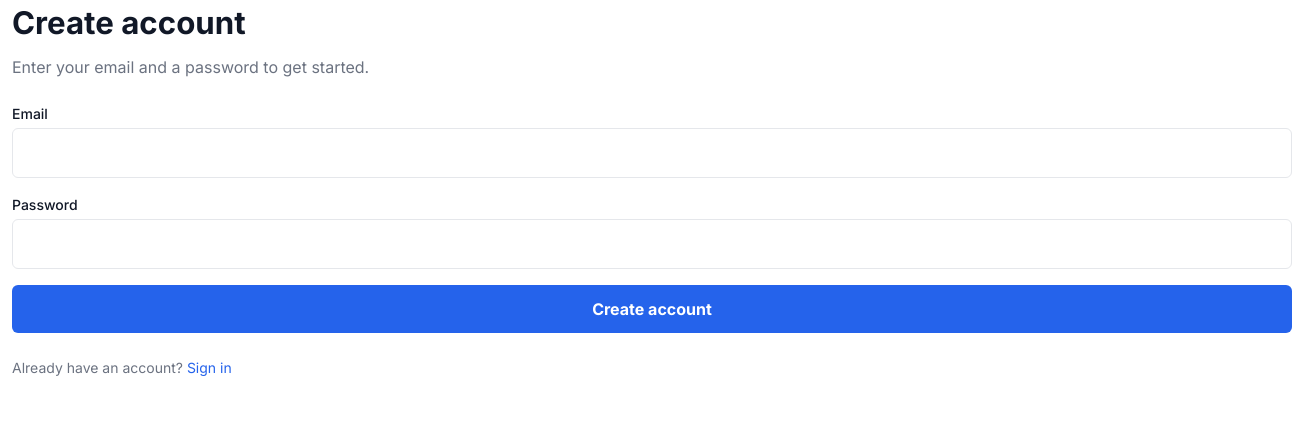
Test: SignUpForm › shows an inline error and stays on the page for a duplicate email
Type "dupe@b.com" into the field labelled "Email" at (652, 153), box [12,128,1292,178]
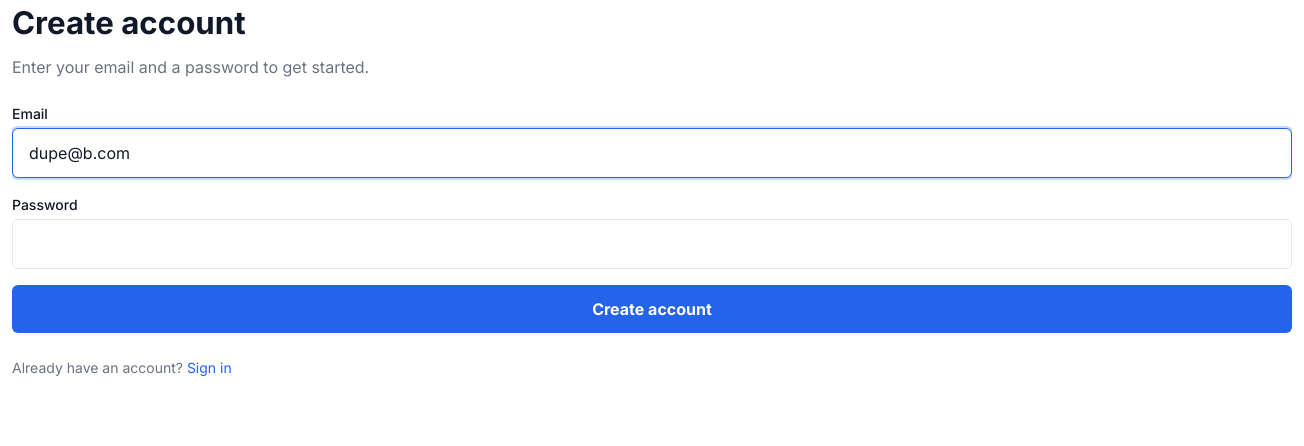
Type "secret123" into the password field labelled "Password" at (652, 244), box [12,219,1292,269]
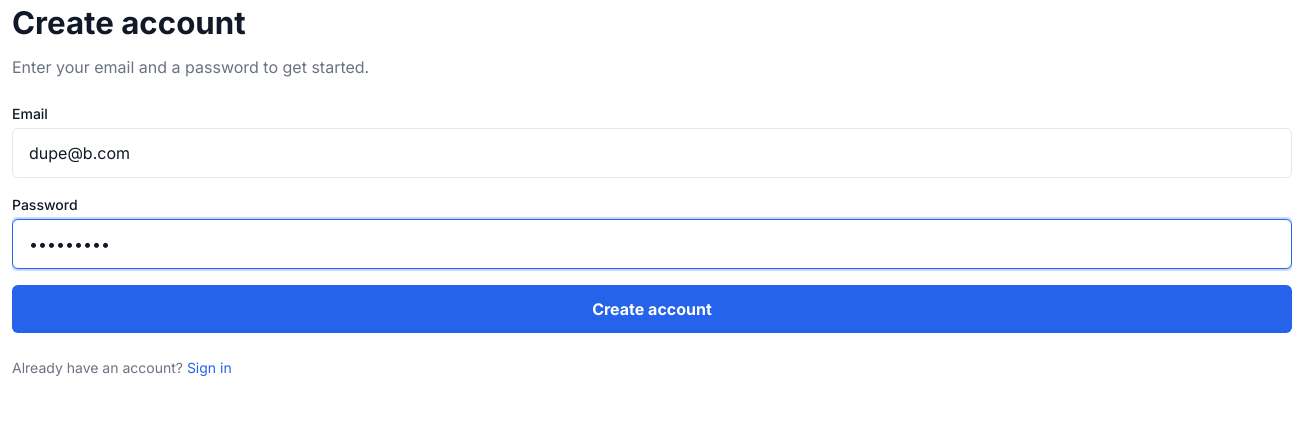
Click the button "Create account" at (652, 309), box [12,285,1292,333]
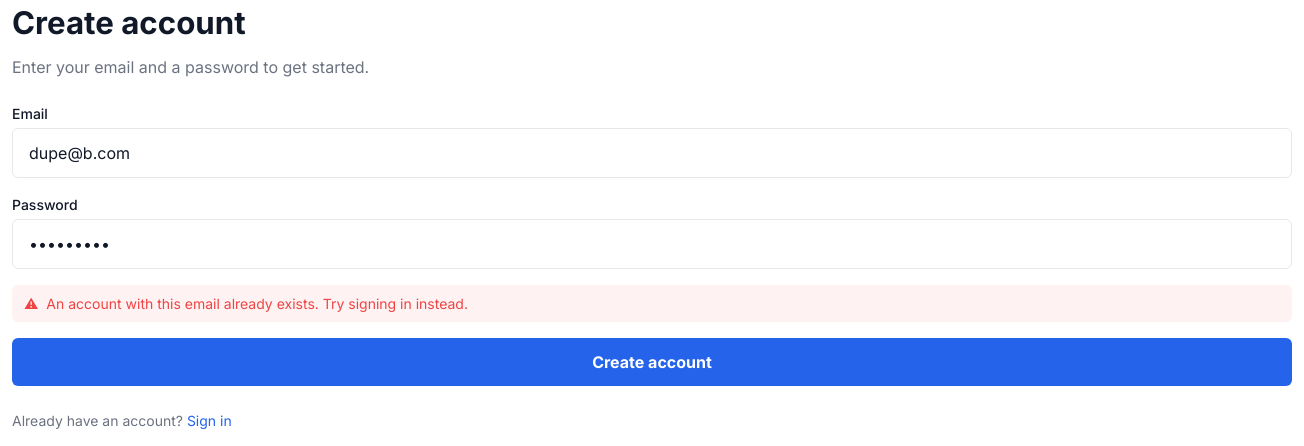
expect the message shows "already exists": met, box [46,295,468,312]
